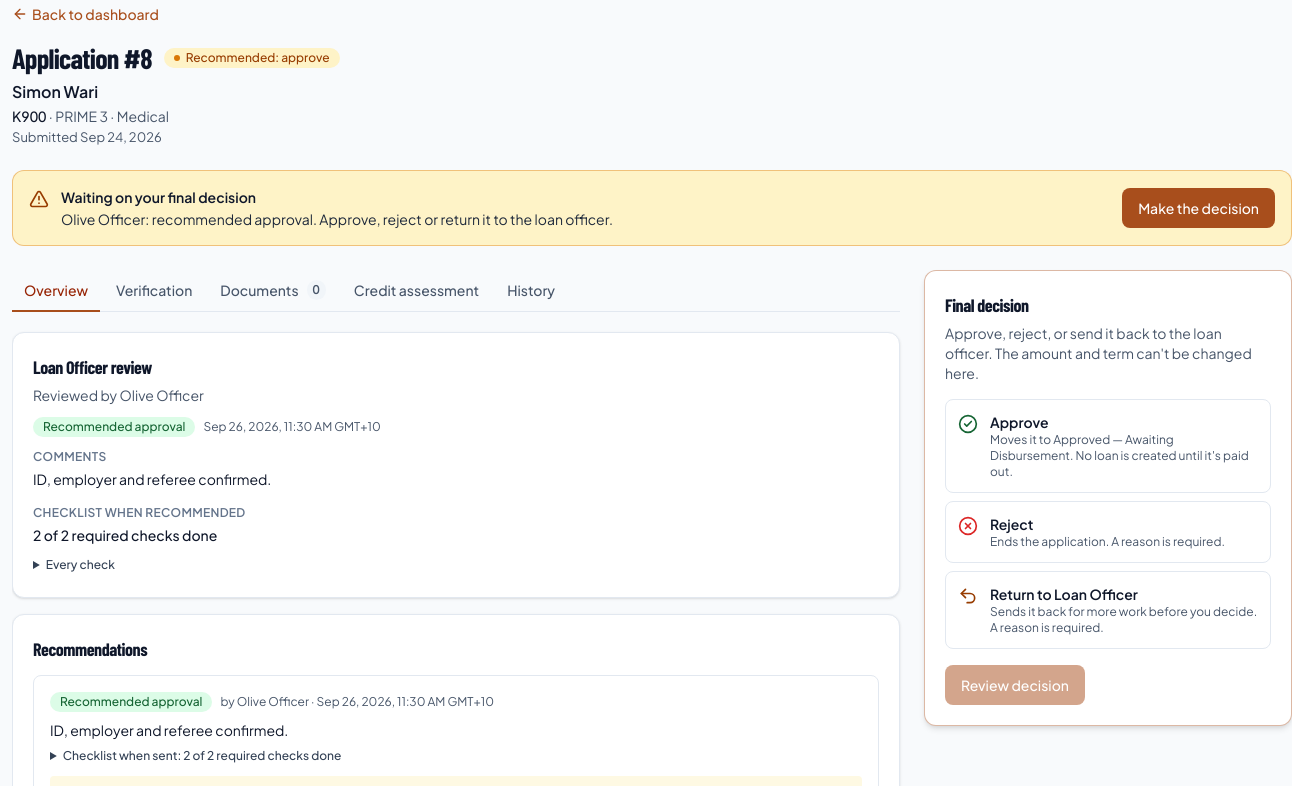
Test case: The review workspace › keeps every piece of information reachable: each panel is in a tab
The width and height of the screenshot is (1292, 786).
Click the tab "Overview". click: (56, 291)
box: [12,270,100,312]
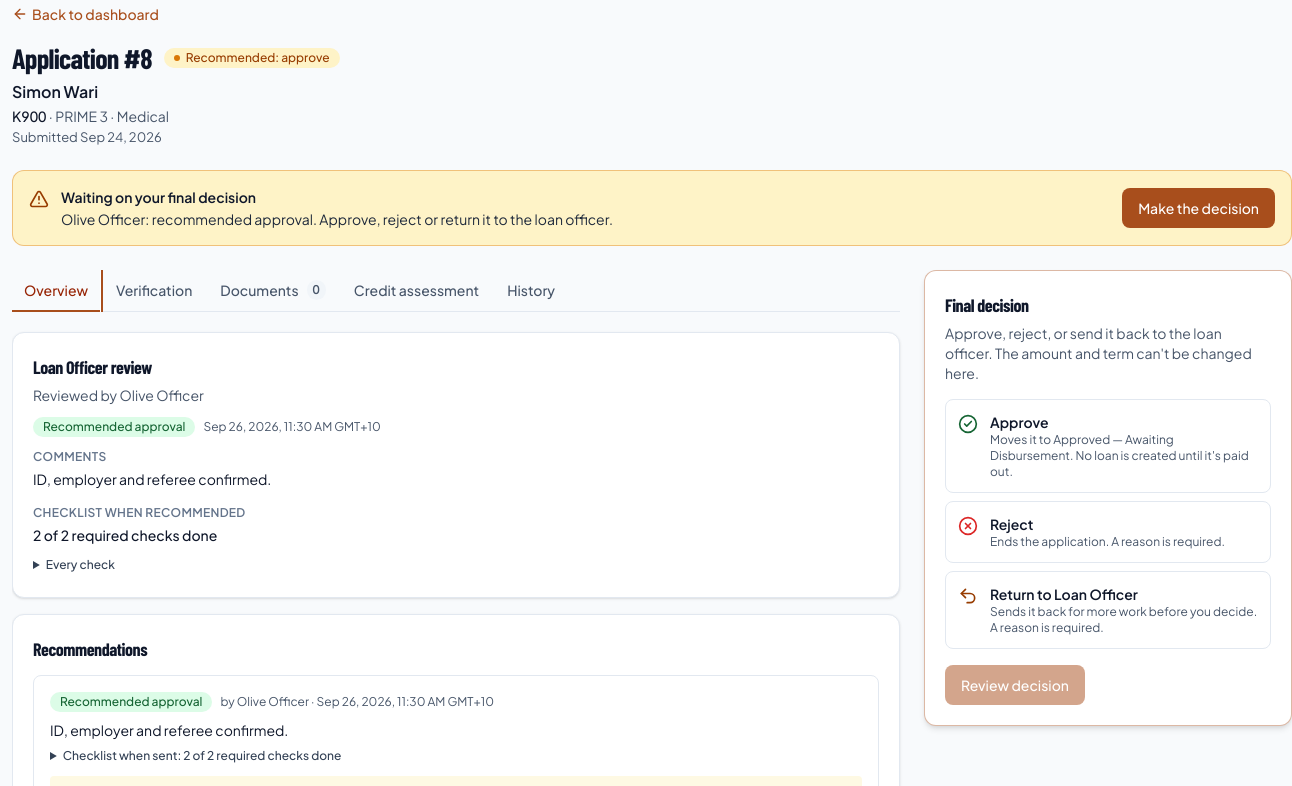
Check: the heading "Loan Officer review" is shown, box [33,356,152,378]
Check: the heading "Recommendations" is shown, box [33,638,147,660]
Click the tab "Verification". click: (154, 291)
box: [104,270,204,312]
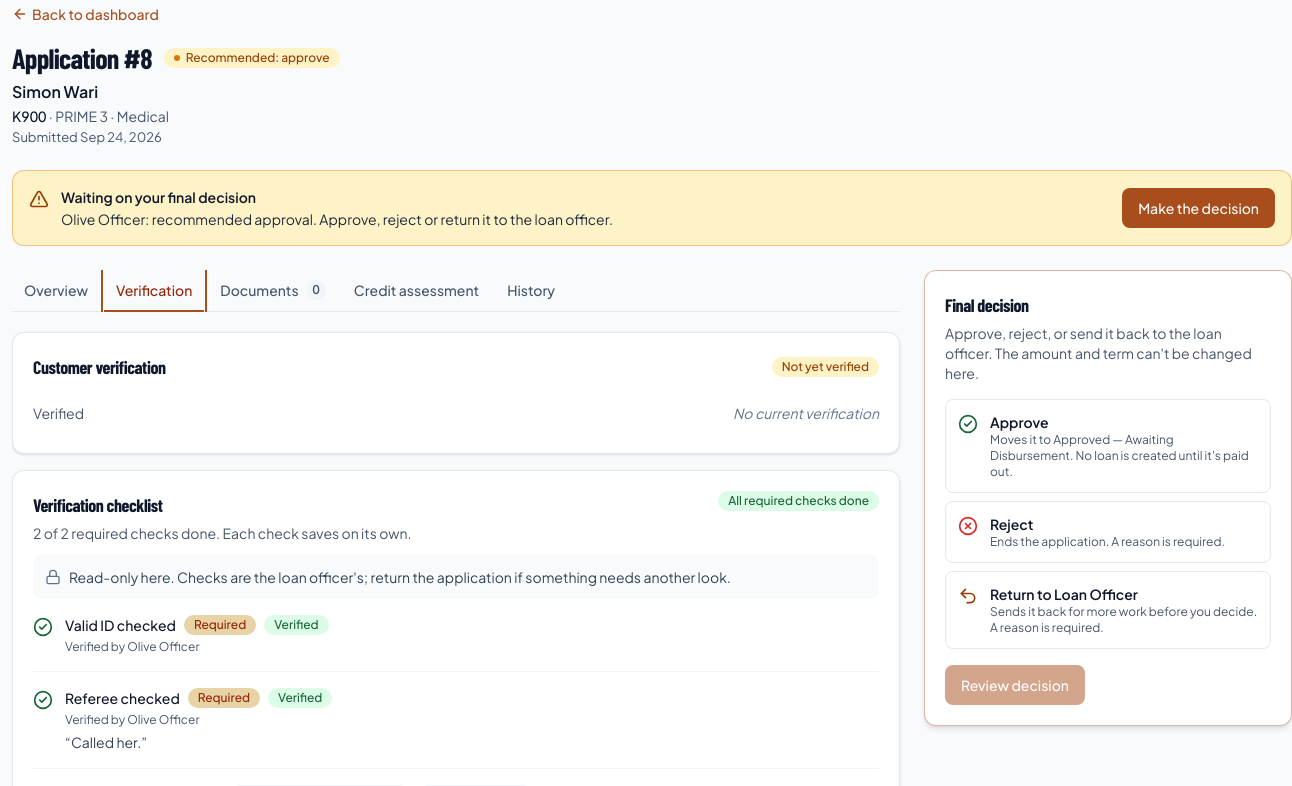
Check: the heading "Customer verification" is shown, box [33,353,166,381]
Check: the heading "Verification checklist" is shown, box [33,494,162,516]
Click the tab "Documents 0". click: (273, 291)
box: [208,270,338,312]
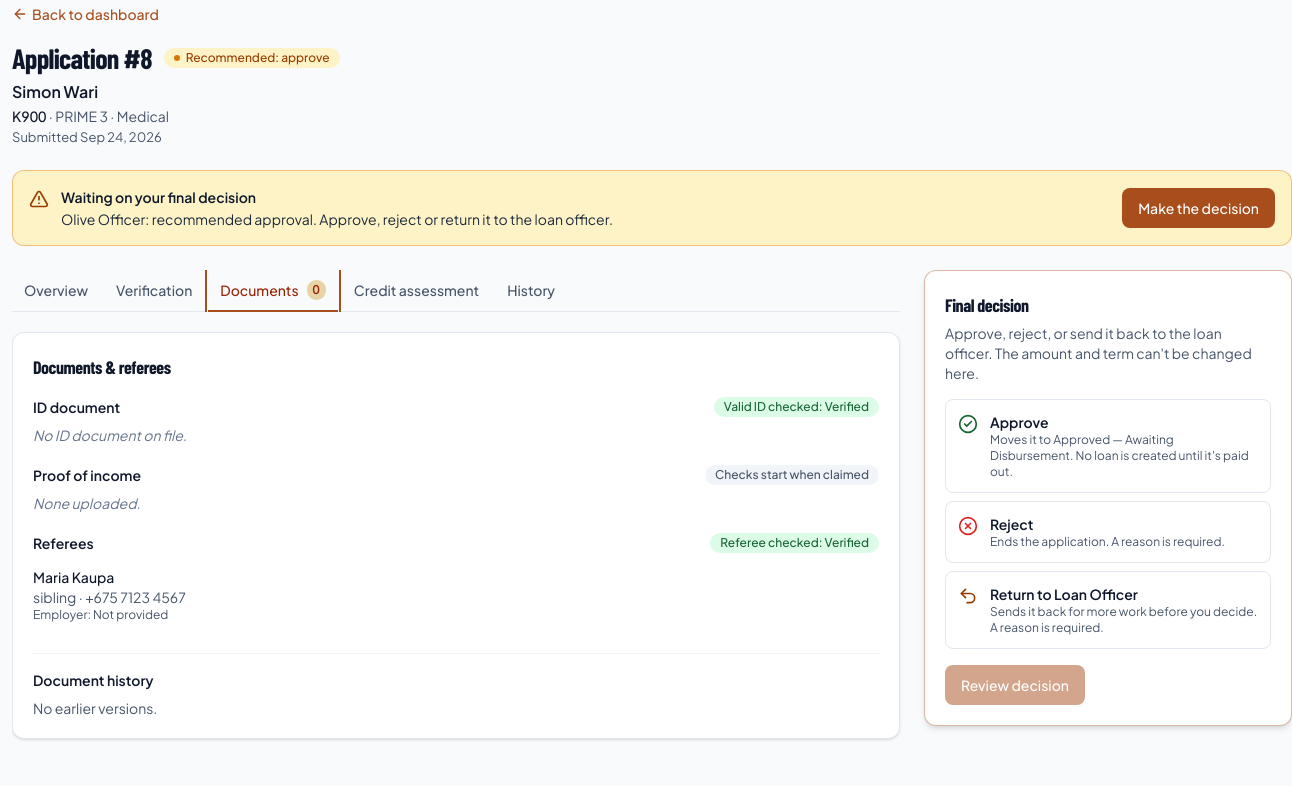
Check: the heading "Documents & referees" is shown, box [33,356,171,378]
Click the tab "Credit assessment". click: (416, 291)
box: [342,270,491,312]
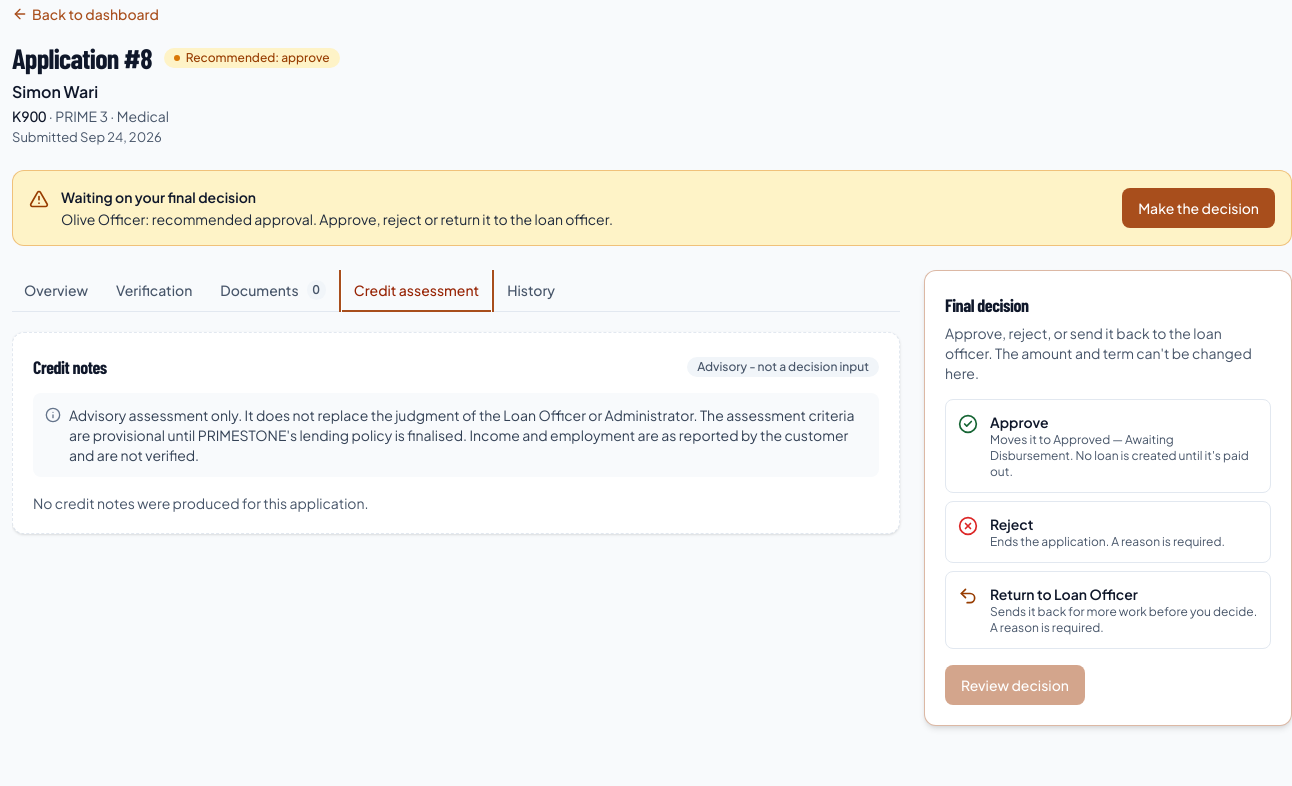
Check: the heading "Credit notes" is shown, box [33,353,107,381]
Click the tab "History". click: (531, 291)
box: [495,270,567,312]
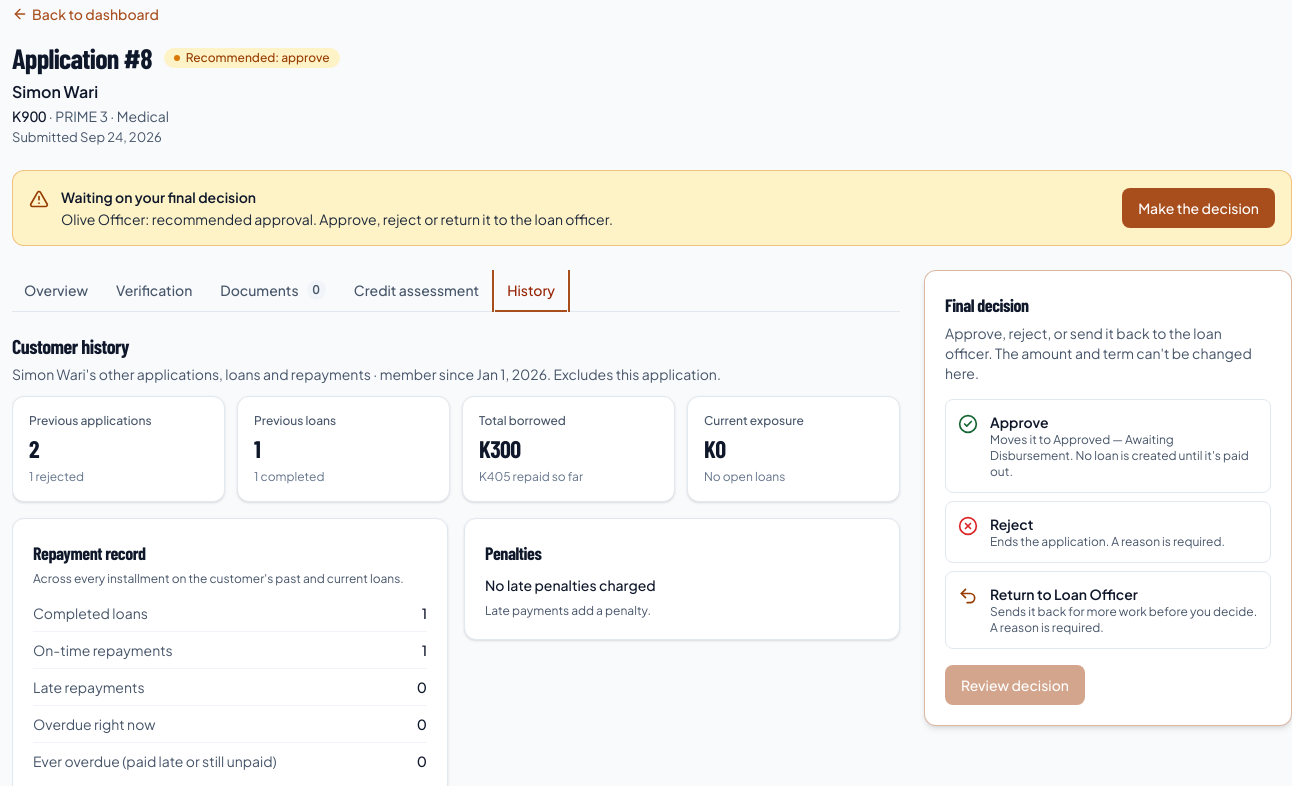
Check: the heading "Customer history" is shown, box [12,334,129,358]
Check: the heading "Repayment record" is shown, box [33,542,146,564]
Check: the heading "Penalties" is shown, box [485,542,541,564]
